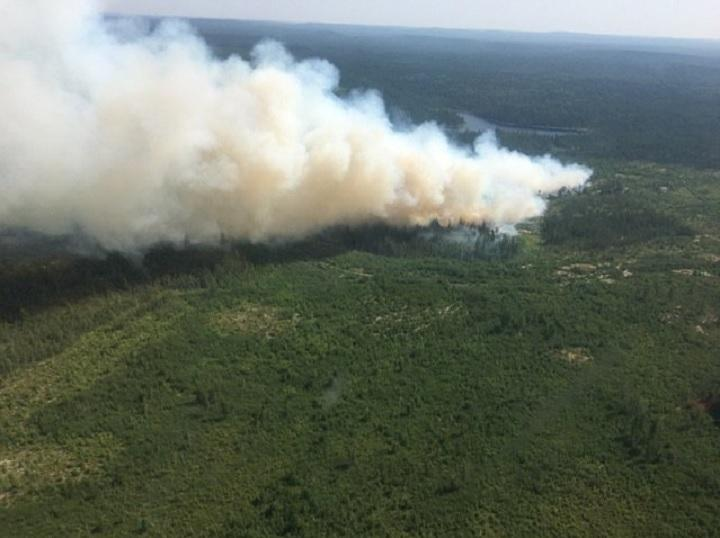smoke: (8, 6, 596, 255)
